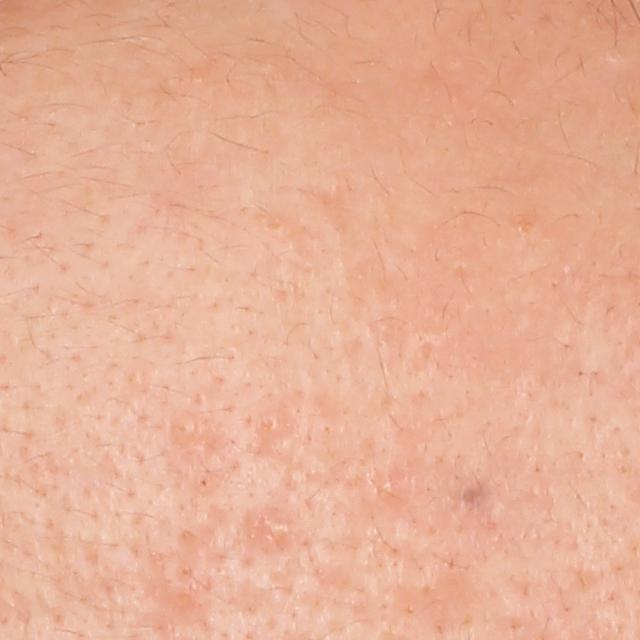comedo: (454, 475, 487, 511), (171, 414, 198, 445), (379, 474, 402, 501), (262, 415, 282, 433)
